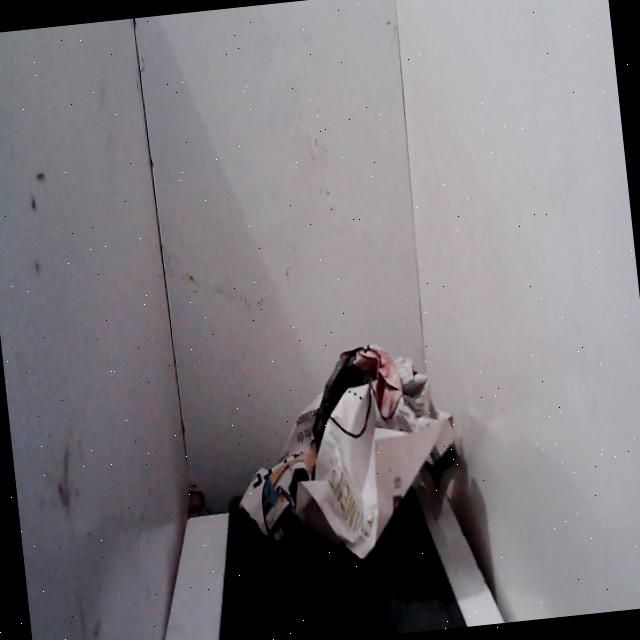papel: (218, 322, 478, 590)
